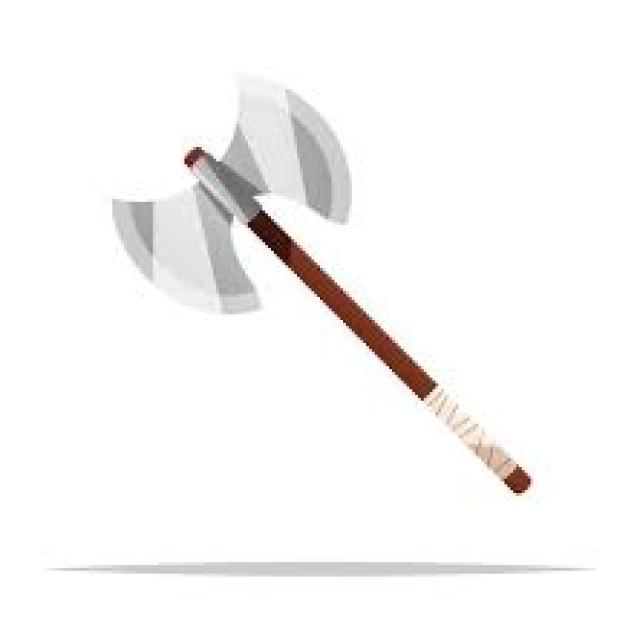Gun: (102, 67, 540, 544)
